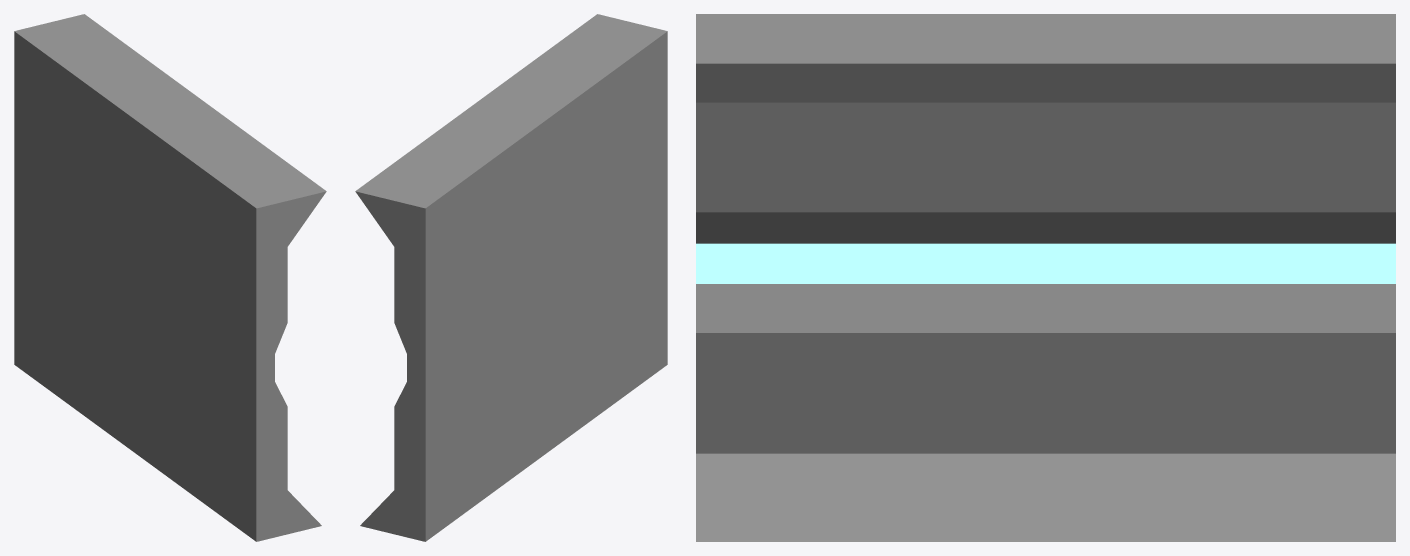
File: SciFiWallPanel_1.fbx
3 renders of one model, left to right at view 1: azimuth 30°, elevation 25°; view 2: azimuth 150°, elevation 25°; view 3: azimuth 270°, elevation 25°, orthographic. The views are drawn at different scales.
Visible parts, largest first — view 1: SciFiWallPanel; view 2: SciFiWallPanel; view 3: SciFiWallPanel.
Part boxes in pixels (x1,y1,x2,y2): SciFiWallPanel: (14,14,326,541); SciFiWallPanel: (355,14,667,541); SciFiWallPanel: (696,14,1395,541).
Bounding box in the file's own units: 121 × 550 × 725.
